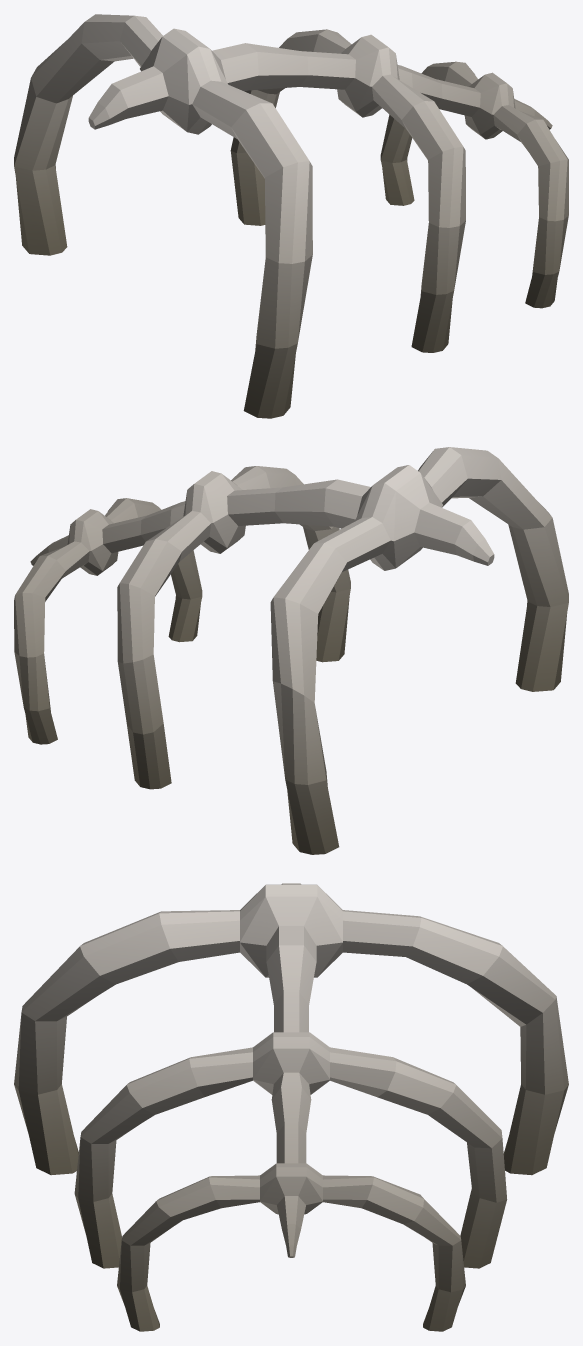
The model's file is skeleton.fbx.
3 renders of one model, top to bottom at view 1: azimuth 30°, elevation 25°; view 2: azimuth 150°, elevation 25°; view 3: azimuth 270°, elevation 25°, orthographic. The views are drawn at different scales.
Parts seen in each view (by area): view 1: Circle.007; view 2: Circle.007; view 3: Circle.007.
Part boxes in pixels (x1,y1,x2,y2): Circle.007: (14,14,568,418); Circle.007: (14,447,568,854); Circle.007: (14,883,568,1331).
Bounding box in the file's own units: 945 × 554 × 942.
